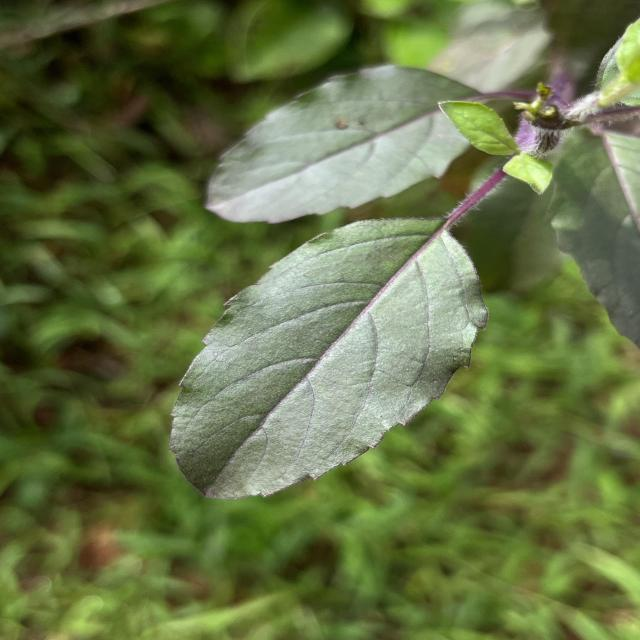Ocimum tenuiflorum: (165, 214, 496, 506)
